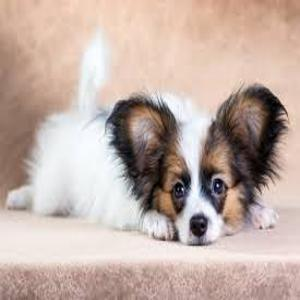yell: (6, 20, 288, 245)
